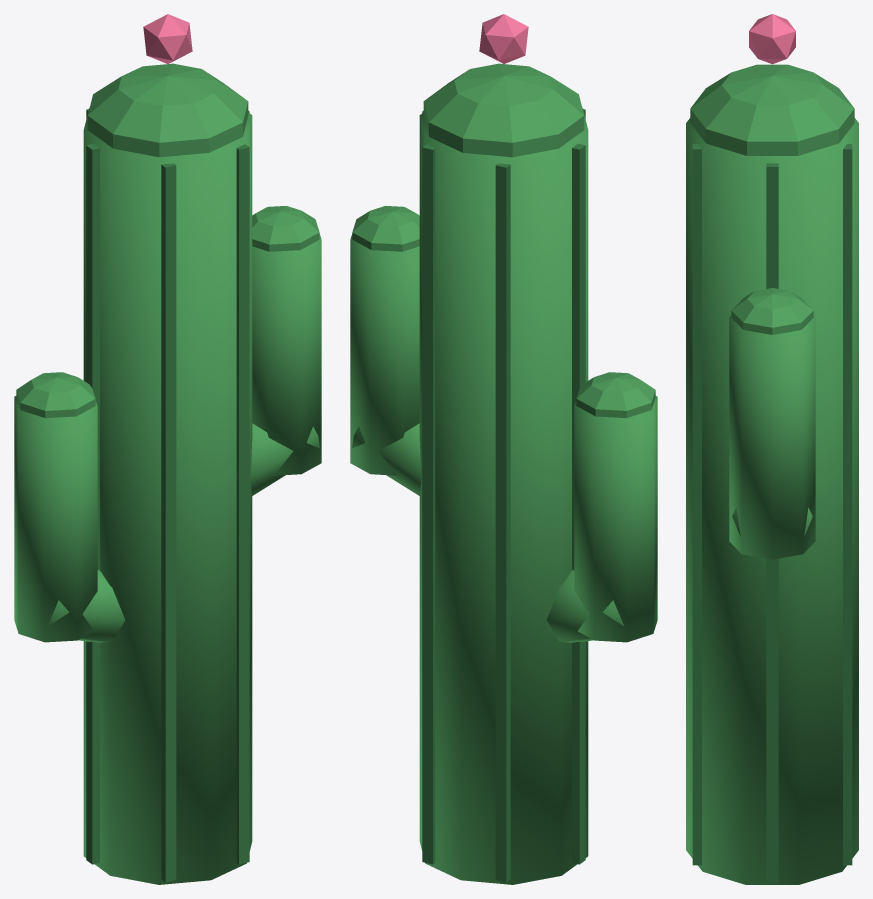
Rendered from hd_saguaro.gltf.
The picture shows the model from 3 angles, left to right: view 1: azimuth 30°, elevation 25°; view 2: azimuth 150°, elevation 25°; view 3: azimuth 270°, elevation 25°; orthographic projection.
Visible parts, largest first — view 1: trunk, arm0, arm1, top, rib4, rib5, rib3, armtop0, armtop1, elb0, elb1, bloom; view 2: trunk, arm0, arm1, top, rib2, rib1, rib3, armtop0, armtop1, elb0, elb1, bloom; view 3: trunk, arm1, top, rib1, rib5, rib0, armtop1, bloom.
Part boxes in pixels (left/top/right/bottom): trunk: left=83, top=108, right=252, bottom=884; arm0: left=14, top=396, right=97, bottom=642; arm1: left=252, top=234, right=321, bottom=475; top: left=87, top=63, right=248, bottom=157; rib4: left=161, top=163, right=176, bottom=882; rib5: left=236, top=144, right=249, bottom=864; rib3: left=86, top=143, right=99, bottom=864; armtop0: left=16, top=372, right=95, bottom=418; armtop1: left=252, top=206, right=319, bottom=251; elb0: left=48, top=570, right=125, bottom=642; elb1: left=250, top=423, right=319, bottom=495; bloom: left=143, top=14, right=192, bottom=63; trunk: left=419, top=108, right=588, bottom=884; arm0: left=574, top=396, right=657, bottom=642; arm1: left=350, top=234, right=419, bottom=475; top: left=423, top=63, right=584, bottom=157; rib2: left=495, top=163, right=510, bottom=882; rib1: left=422, top=144, right=435, bottom=864; rib3: left=572, top=143, right=585, bottom=864; armtop0: left=576, top=372, right=655, bottom=418; armtop1: left=352, top=206, right=419, bottom=251; elb0: left=546, top=570, right=623, bottom=642; elb1: left=352, top=423, right=421, bottom=495; bloom: left=479, top=14, right=528, bottom=63; trunk: left=686, top=118, right=858, bottom=884; arm1: left=729, top=316, right=815, bottom=559; top: left=690, top=64, right=854, bottom=155; rib1: left=843, top=144, right=852, bottom=865; rib5: left=692, top=144, right=701, bottom=865; rib0: left=766, top=163, right=778, bottom=882; armtop1: left=731, top=288, right=813, bottom=334; bloom: left=749, top=14, right=795, bottom=64.
Bounding box in the file's own units: 1.12 × 2.99 × 0.56.
